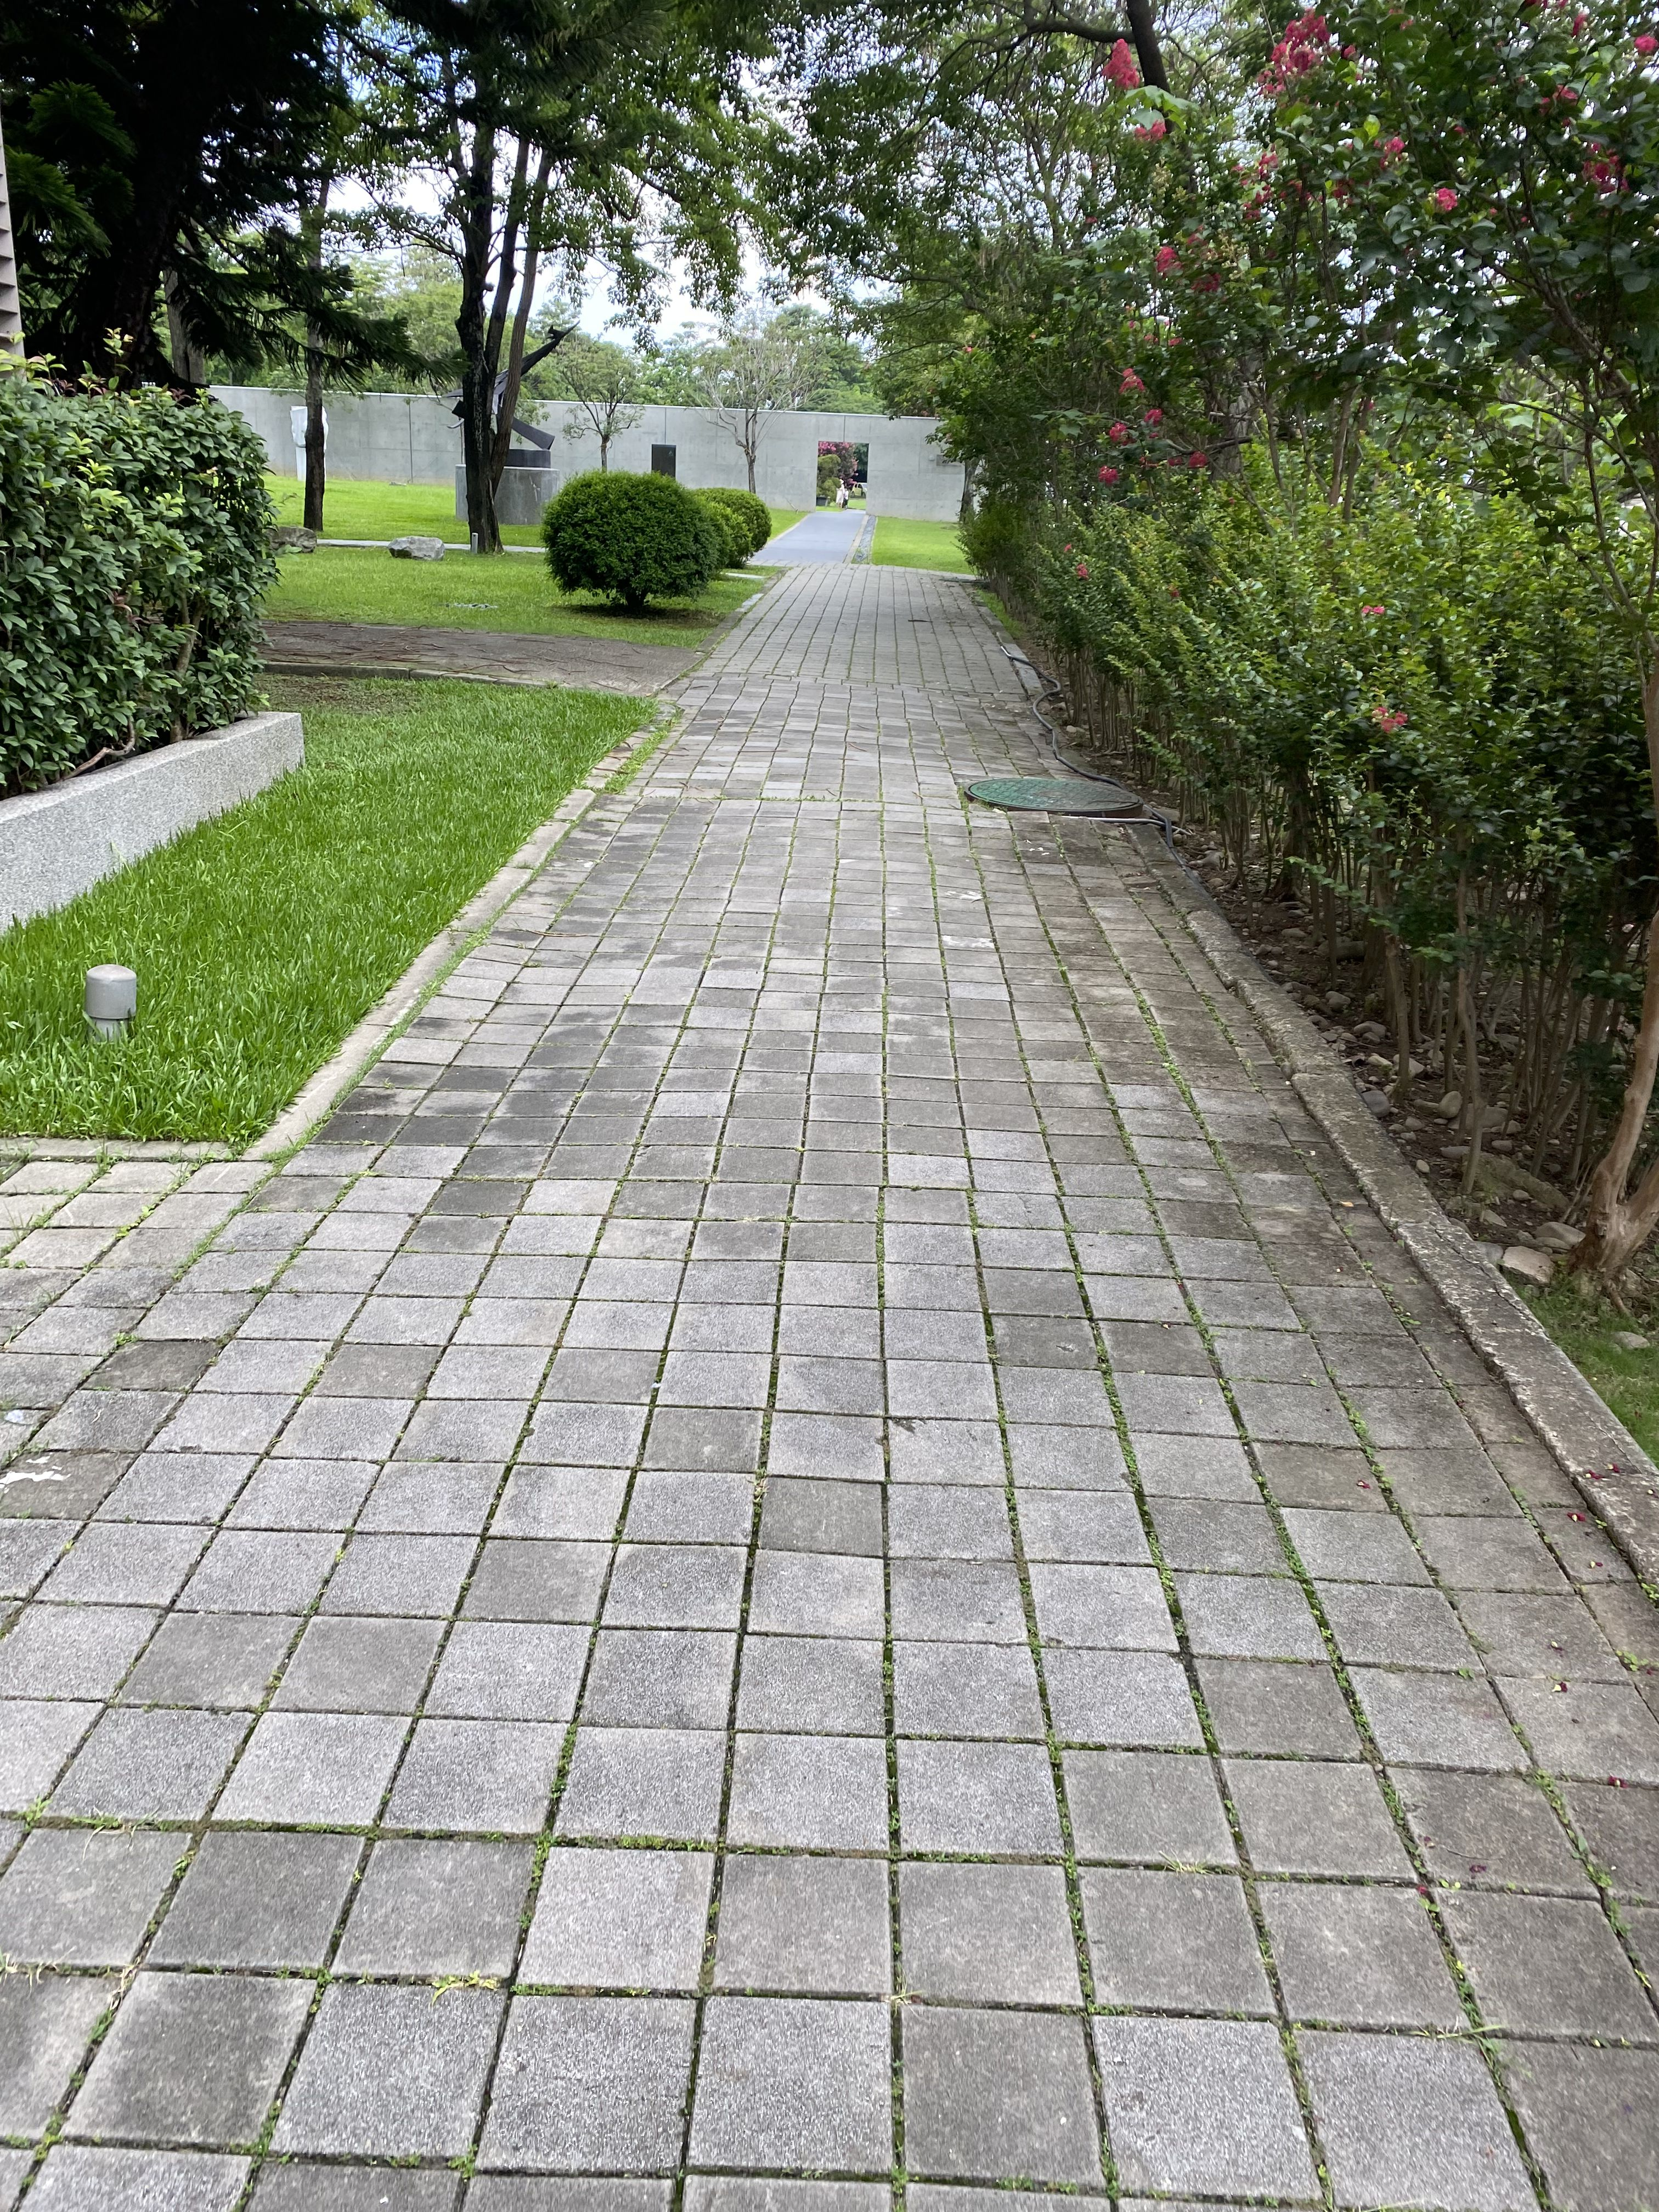0: (10, 657, 831, 2212)
sidewalk: (676, 535, 1659, 2212)
